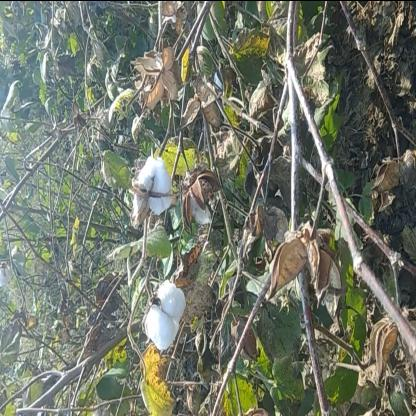cotton_ready: (128, 144, 182, 227), (139, 276, 194, 350)
